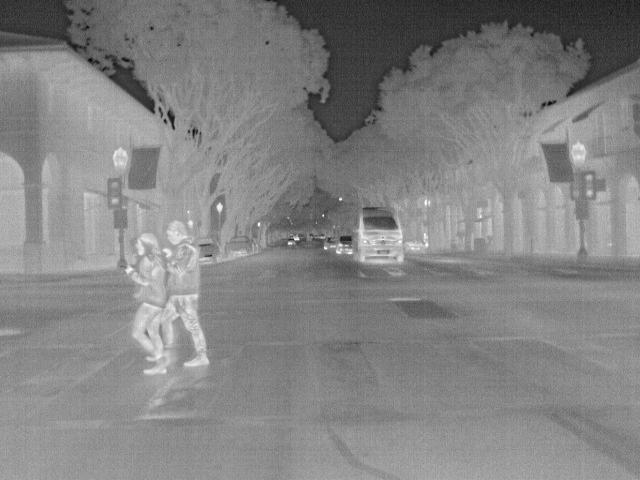car: (352, 206, 405, 262), (194, 236, 223, 262), (225, 235, 255, 257), (400, 234, 427, 253), (335, 234, 355, 255), (322, 235, 339, 251)
person: (159, 220, 212, 368), (123, 231, 171, 376)
